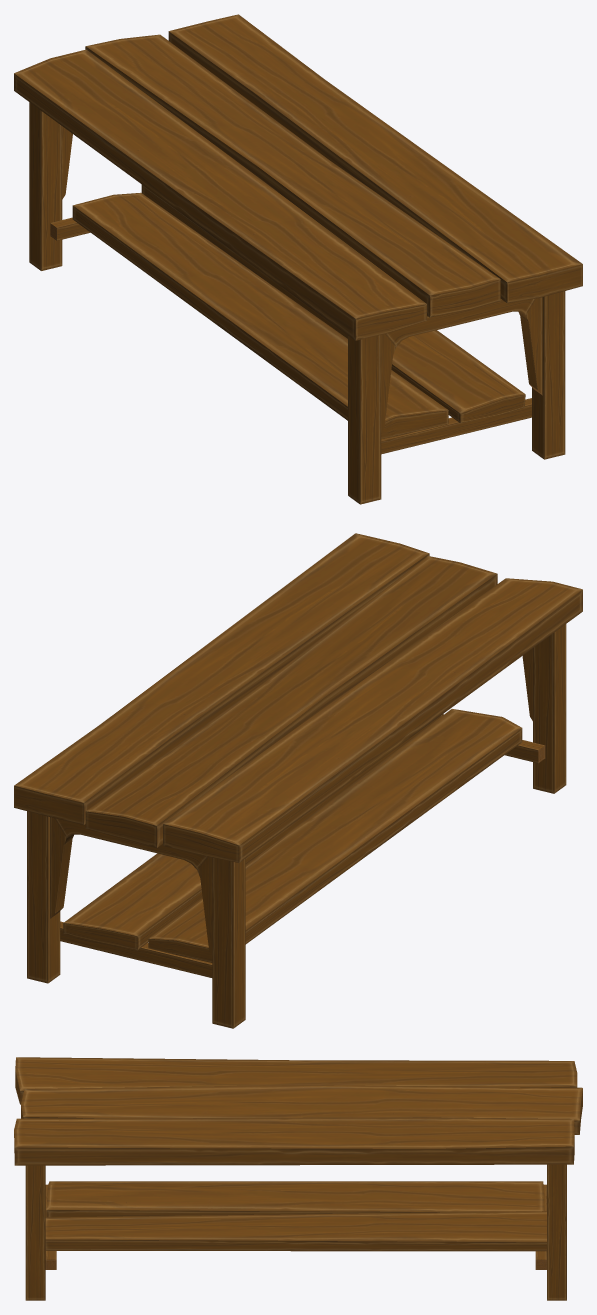
File: SM_MarketTable.fbx
3 views of the same model, one above another, from view 1: azimuth 30°, elevation 25°; view 2: azimuth 150°, elevation 25°; view 3: azimuth 270°, elevation 25° (orthographic). The views are drawn at different scales.
Visible parts, largest first — view 1: SM_MarketTable_LOD0; view 2: SM_MarketTable_LOD0; view 3: SM_MarketTable_LOD0.
Boxes of the visible parts, left/top/right/bottom form: SM_MarketTable_LOD0: left=14, top=14, right=582, bottom=504; SM_MarketTable_LOD0: left=14, top=533, right=582, bottom=1028; SM_MarketTable_LOD0: left=14, top=1057, right=582, bottom=1300.
Bounding box in the file's own units: 86.18 × 229 × 71.59.
